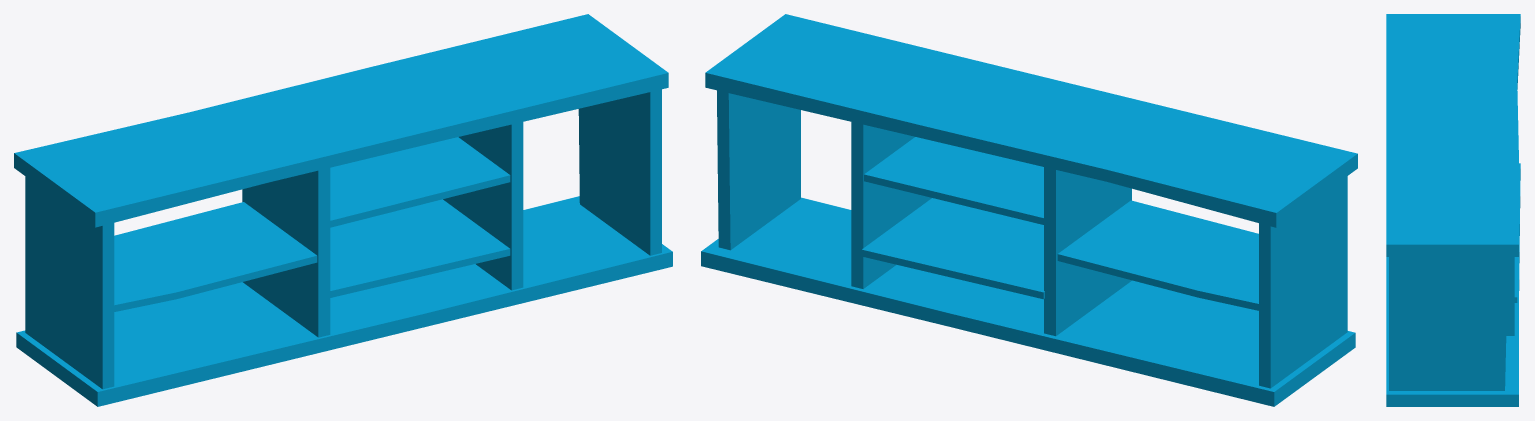
The model's file is Workbench_02_Lod0.fbx.
3 views of the same model, side by side, from view 1: azimuth 30°, elevation 25°; view 2: azimuth 150°, elevation 25°; view 3: azimuth 270°, elevation 25° (orthographic). The views are drawn at different scales.
Visible parts, largest first — view 1: Workbench_02_Lod0; view 2: Workbench_02_Lod0; view 3: Workbench_02_Lod0.
Boxes of the visible parts, box(x1,y1,x2,y2) form: Workbench_02_Lod0: box(14, 14, 672, 406); Workbench_02_Lod0: box(701, 14, 1357, 406); Workbench_02_Lod0: box(1386, 14, 1520, 406).
Bounding box in the file's own units: 285 × 91.8 × 69.5.
